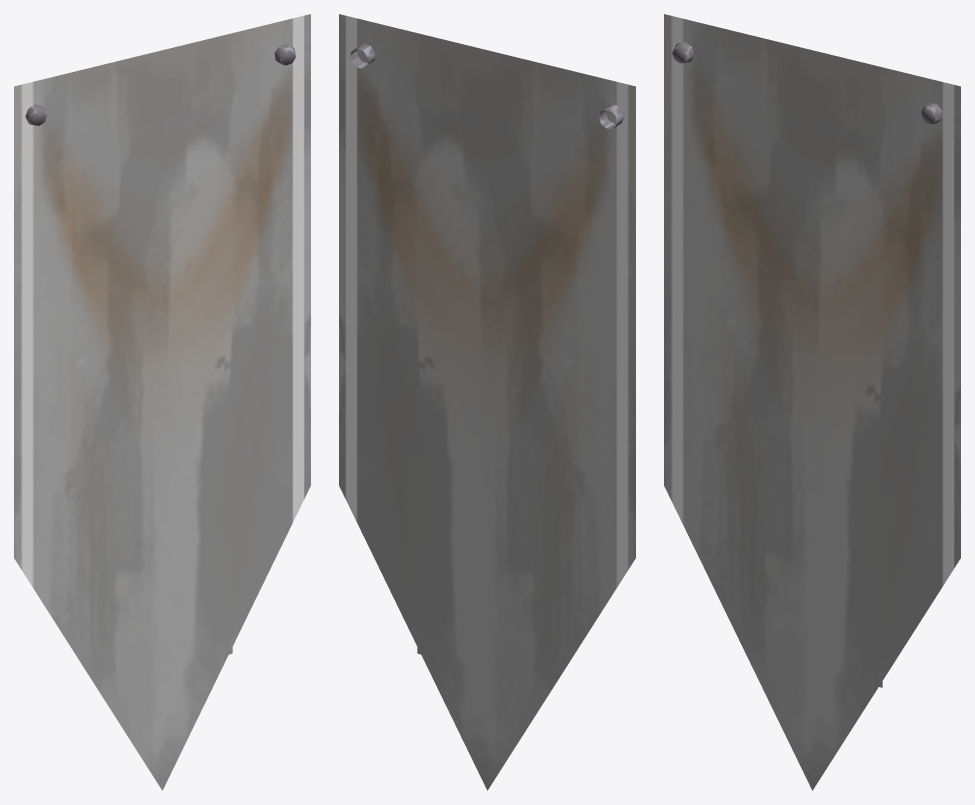
The model's file is Banner_2_Cloth.fbx.
The picture shows the model from 3 angles, left to right: view 1: azimuth 30°, elevation 25°; view 2: azimuth 150°, elevation 25°; view 3: azimuth 330°, elevation 25°; orthographic projection.
Visible parts, largest first — view 1: Banner_2_Cloth; view 2: Banner_2_Cloth; view 3: Banner_2_Cloth.
Part boxes in pixels (box(x1,y1,x2,y2)): Banner_2_Cloth: box(14, 14, 310, 790); Banner_2_Cloth: box(339, 14, 635, 790); Banner_2_Cloth: box(664, 14, 960, 790).
Bounding box in the file's own units: 81.02 × 193 × 5.68.
